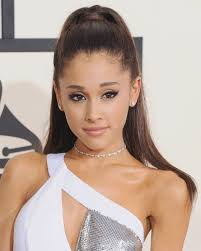person: (49, 5, 144, 154)
